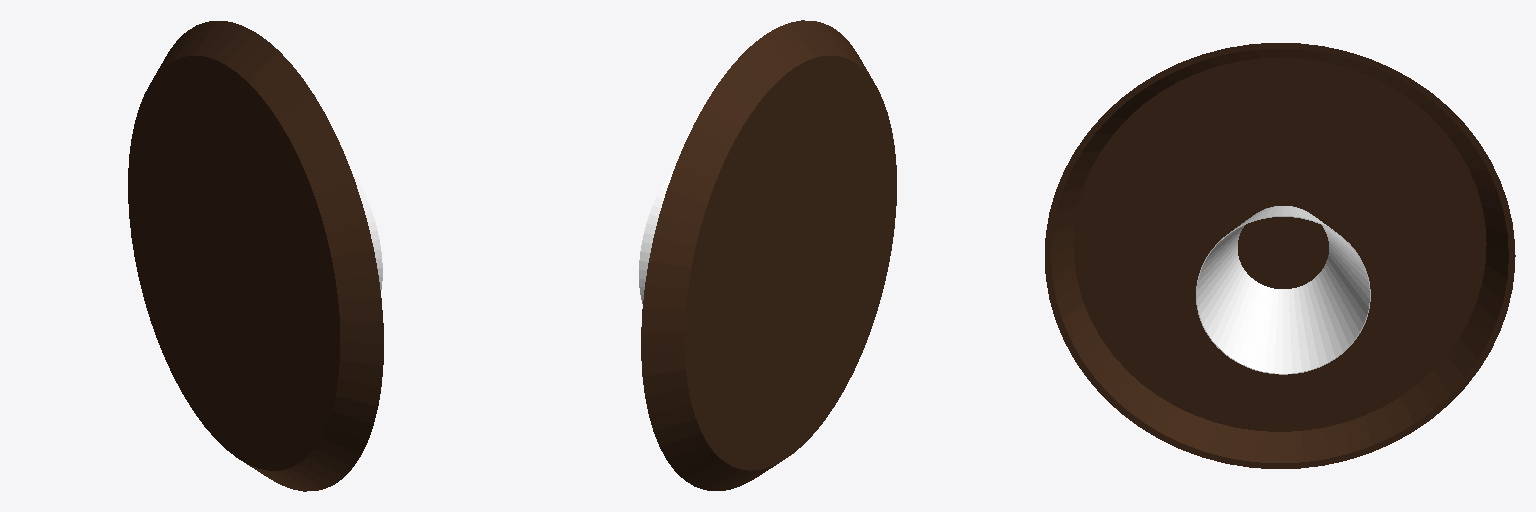
URDF robot description (gen3_robotiq_2f_85):
<?xml version="1.0" ?>
<!-- =================================================================================== -->
<!-- |    This document was autogenerated by xacro from gen3_robotiq_2f_85.xacro       | -->
<!-- |    EDITING THIS FILE BY HAND IS NOT RECOMMENDED                                 | -->
<!-- =================================================================================== -->
<robot name="gen3_robotiq_2f_85">
  <!-- Run the macros -->
  <link name="base">
    <inertial>
      <origin rpy="0 0 0" xyz="-0.000648 -0.000166 0.084487"/>
      <mass value="1.697"/>
      <inertia ixx="0.004622" ixy="9E-06" ixz="6E-05" iyy="0.004495" iyz="9E-06" izz="0.002079"/>
    </inertial>
    <visual>
      <origin rpy="0 0 0" xyz="0 0 0"/>
      <geometry>
        <mesh filename="meshes/base_link.obj"/>
      </geometry>
      <material name="">
        <color rgba="1 1 1 0"/>
      </material>
    </visual>
    <collision>
      <origin rpy="0 0 0" xyz="0 0 0"/>
      <geometry>
        <mesh filename="meshes/base_link.obj"/>
      </geometry>
    </collision>
  </link>

  <link name="shoulder_link">
    <inertial>
      <origin rpy="0 0 0" xyz="-2.3E-05 -0.010364 -0.07336"/>
      <mass value="1.3773"/>
      <inertia ixx="0.00457" ixy="1E-06" ixz="2E-06" iyy="0.004831" iyz="0.000448" izz="0.001409"/>
    </inertial>
    <visual>
      <origin rpy="0 0 0" xyz="0 0 0"/>
      <geometry>
        <mesh filename="meshes/shoulder_link.obj"/>
      </geometry>
      <material name="">
        <color rgba="1 1 1 0"/>
      </material>
    </visual>
    <collision>
      <origin rpy="0 0 0" xyz="0 0 0"/>
      <geometry>
        <mesh filename="meshes/shoulder_link.obj"/>
      </geometry>
    </collision>
  </link>

  <joint name="joint_1" type="continuous">
    <origin rpy="3.1416 2.7629E-18 -4.9305E-36" xyz="0 0 0.15643"/>
    <parent link="base"/>
    <child link="shoulder_link"/>
    <axis xyz="0 0 1"/>
    <limit effort="39" velocity="1.3963"/>
  </joint>

  <link name="half_arm_1_link">
    <inertial>
      <origin rpy="0 0 0" xyz="-4.4E-05 -0.09958 -0.013278"/>
      <mass value="1.1636"/>
      <inertia ixx="0.011088" ixy="5E-06" ixz="0" iyy="0.001072" iyz="-0.000691" izz="0.011255"/>
    </inertial>
    <visual>
      <origin rpy="0 0 0" xyz="0 0 0"/>
      <geometry>
        <mesh filename="meshes/half_arm_1_link.obj"/>
      </geometry>
      <material name="">
        <color rgba="1 1 1 0"/>
      </material>
    </visual>
    <collision>
      <origin rpy="0 0 0" xyz="0 0 0"/>
      <geometry>
        <mesh filename="meshes/half_arm_1_link.obj"/>
      </geometry>
    </collision>
  </link>

  <joint name="joint_2" type="revolute">
    <origin rpy="1.5708 2.1343E-17 -1.1102E-16" xyz="0 0.005375 -0.12838"/>
    <parent link="shoulder_link"/>
    <child link="half_arm_1_link"/>
    <axis xyz="0 0 1"/>
    <limit effort="39" lower="-2.41" upper="2.41" velocity="1.3963"/>
  </joint>

  <link name="half_arm_2_link">
    <inertial>
      <origin rpy="0 0 0" xyz="-4.4E-05 -0.006641 -0.117892"/>
      <mass value="1.1636"/>
      <inertia ixx="0.010932" ixy="0" ixz="-7E-06" iyy="0.011127" iyz="0.000606" izz="0.001043"/>
    </inertial>
    <visual>
      <origin rpy="0 0 0" xyz="0 0 0"/>
      <geometry>
        <mesh filename="meshes/half_arm_2_link.obj"/>
      </geometry>
      <material name="">
        <color rgba="1 1 1 0"/>
      </material>
    </visual>
    <collision>
      <origin rpy="0 0 0" xyz="0 0 0"/>
      <geometry>
        <mesh filename="meshes/half_arm_2_link.obj"/>
      </geometry>
    </collision>
  </link>

  <joint name="joint_3" type="continuous">
    <origin rpy="-1.5708 1.2326E-32 -2.9122E-16" xyz="0 -0.21038 -0.006375"/>
    <parent link="half_arm_1_link"/>
    <child link="half_arm_2_link"/>
    <axis xyz="0 0 1"/>
    <limit effort="39" velocity="1.3963"/>
  </joint>

  <link name="forearm_link">
    <inertial>
      <origin rpy="0 0 0" xyz="-1.8E-05 -0.075478 -0.015006"/>
      <mass value="0.9302"/>
      <inertia ixx="0.008147" ixy="-1E-06" ixz="0" iyy="0.000631" iyz="-0.0005" izz="0.008316"/>
    </inertial>
    <visual>
      <origin rpy="0 0 0" xyz="0 0 0"/>
      <geometry>
        <mesh filename="meshes/forearm_link.obj"/>
      </geometry>
      <material name="">
        <color rgba="1 1 1 0"/>
      </material>
    </visual>
    <collision>
      <origin rpy="0 0 0" xyz="0 0 0"/>
      <geometry>
        <mesh filename="meshes/forearm_link.obj"/>
      </geometry>
    </collision>
  </link>

  <joint name="joint_4" type="revolute">
    <origin rpy="1.5708 -6.6954E-17 -1.6653E-16" xyz="0 0.006375 -0.21038"/>
    <parent link="half_arm_2_link"/>
    <child link="forearm_link"/>
    <axis xyz="0 0 1"/>
    <limit effort="39" lower="-2.66" upper="2.66" velocity="1.3963"/>
  </joint>

  <link name="spherical_wrist_1_link">
    <inertial>
      <origin rpy="0 0 0" xyz="1E-06 -0.009432 -0.063883"/>
      <mass value="0.6781"/>
      <inertia ixx="0.001596" ixy="0" ixz="0" iyy="0.001607" iyz="0.000256" izz="0.000399"/>
    </inertial>
    <visual>
      <origin rpy="0 0 0" xyz="0 0 0"/>
      <geometry>
        <mesh filename="meshes/spherical_wrist_1_link.obj"/>
      </geometry>
      <material name="">
        <color rgba="1 1 1 0"/>
      </material>
    </visual>
    <collision>
      <origin rpy="0 0 0" xyz="0 0 0"/>
      <geometry>
        <mesh filename="meshes/spherical_wrist_1_link.obj"/>
      </geometry>
    </collision>
  </link>

  <joint name="joint_5" type="continuous">
    <origin rpy="-1.5708 2.2204E-16 -6.373E-17" xyz="0 -0.20843 -0.006375"/>
    <parent link="forearm_link"/>
    <child link="spherical_wrist_1_link"/>
    <axis xyz="0 0 1"/>
    <limit effort="9" velocity="1.2218"/>
  </joint>

  <link name="spherical_wrist_2_link">
    <inertial>
      <origin rpy="0 0 0" xyz="1E-06 -0.045483 -0.00965"/>
      <mass value="0.6781"/>
      <inertia ixx="0.001641" ixy="0" ixz="0" iyy="0.00041" iyz="-0.000278" izz="0.001641"/>
    </inertial>
    <visual>
      <origin rpy="0 0 0" xyz="0 0 0"/>
      <geometry>
        <mesh filename="meshes/spherical_wrist_2_link.obj"/>
      </geometry>
      <material name="">
        <color rgba="1 1 1 0"/>
      </material>
    </visual>
    <collision>
      <origin rpy="0 0 0" xyz="0 0 0"/>
      <geometry>
        <mesh filename="meshes/spherical_wrist_2_link.obj"/>
      </geometry>
    </collision>
  </link>

  <joint name="joint_6" type="revolute">
    <origin rpy="1.5708 9.2076E-28 -8.2157E-15" xyz="0 0.00017505 -0.10593"/>
    <parent link="spherical_wrist_1_link"/>
    <child link="spherical_wrist_2_link"/>
    <axis xyz="0 0 1"/>
    <limit effort="9" lower="-2.23" upper="2.23" velocity="1.2218"/>
  </joint>

  <link name="bracelet_link">
    <inertial>
      <!-- This is different from the documentation -->
      <origin rpy="0 0 0" xyz="0.000281 0.011402 -0.029798"/>
      <mass value="0.5"/>
      <inertia ixx="0.000587" ixy="3E-06" ixz="3E-06" iyy="0.000369" iyz="-0.000118" izz="0.000609"/>
    </inertial>
    <visual>
      <origin rpy="0 0 0" xyz="0 0 0"/>
      <geometry>
        <mesh filename="meshes/bracelet_with_vision_link.obj"/>
      </geometry>
      <material name="">
        <color rgba="1 1 1 0"/>
      </material>
    </visual>
    <collision>
      <origin rpy="0 0 0" xyz="0 0 0"/>
      <geometry>
        <mesh filename="meshes/bracelet_with_vision_link.obj"/>
      </geometry>
    </collision>
  </link>

  <joint name="joint_7" type="continuous">
    <origin rpy="-1.5708 -5.5511E-17 9.6396E-17" xyz="0 -0.10593 -0.00017505"/>
    <parent link="spherical_wrist_2_link"/>
    <child link="bracelet_link"/>
    <axis xyz="0 0 1"/>
    <limit effort="9" velocity="1.2218"/>
  </joint>

  <!-- gripper code -->


  <joint name="gripper_base_joint" type="fixed">
    <!--
    <parent link="end_effector_link"/>
  -->
    <parent link="bracelet_link"/>
    <child link="gripper_base"/>
    <origin rpy="1.5707 0.0 0.0" xyz="0.0 0.0 -0.0615250000000001"/>
    <!-- 1.57 -->
  </joint>

  <link name="gripper_base">
    <inertial>
      <origin rpy="0 0 0" xyz="6.91E-06 4.4117E-06 0.031656"/>
      <mass value="0.60831"/>
      <inertia ixx="0.0004596" ixy="1.5559E-09" ixz="1.397E-07" iyy="0.0005181" iyz="-1.0325E-11" izz="0.00036051"/>
    </inertial>
    <visual>
      <origin rpy="0 0 0" xyz="0 0 0"/>
      <geometry>
        <mesh filename="meshes/base_of_gripper.obj"/>
      </geometry>
      <material name="">
        <color rgba="0 0 0 0"/>
      </material>
    </visual>
    <collision>
      <origin rpy="0 0 0" xyz="0 0 0"/>
      <geometry>
        <mesh filename="meshes/base_of_gripper.obj"/>
      </geometry>
    </collision>
  </link>

  <!-- tray and object code -->

  <joint name="waiter_tray_joint" type="fixed">
     <origin rpy="0 1.5707 0" xyz="0 -0.14948 0" /> <!-- offset from base of gripper -->
     <parent link="gripper_base" />
     <child link="waiter_tray_link" />
  </joint>

  <link name="waiter_tray_link"> <!-- updated for circular tray -->
    <inertial>
      <origin rpy="0 0 0" xyz="0 -0.144 0" /> <!-- updated for hardware -->
      <mass value="0.354" /> <!-- updated for hardware -->
      <inertia ixx="0.00001806328" ixy="0" ixz="0" iyy="0.00001806328" iyz="0" izz="0.00003596782" /> <!-- updated for hardware -->
    </inertial>
    <visual>
      <origin rpy="0 0 0" xyz="0 0 0"/>
      <geometry>
        <mesh filename="meshes/circ_tray_hardware_shift_scale_v4.obj" /> <!-- need to be updated -->
      </geometry>
      <material name="">
      <color rgba="0.3059 0.2078 0.1412 1" />
      </material>
    </visual>
    <collision>
      <origin rpy="0 0 0" xyz="0 0 0"/>
      <geometry>
        <mesh filename="meshes/circ_tray_hardware_shift_scale_v4.obj" /> <!-- need to be updated -->
      </geometry>
    </collision>
  </link>

  <!-- Joint 10 -->
  <joint name="contact_joint" type="fixed">
     <origin rpy="0 0 0" xyz="0 -0.106 0.002" /> <!-- needs to be updated --> 
     <parent link="waiter_tray_link" />
     <child link="object_link" />
  </joint>

  <link name="object_link">
    <inertial>
      <origin rpy="0 0 0" xyz="0 0 0.0291" /> <!-- updated for hardware -->
      <mass value="0.592" /> <!-- updated for hardware -->
      <inertia ixx="0.00033005074" ixy="0.0" ixz="0.0" iyy="0.00033005074" iyz="0.0" izz="0.00042925501" /> <!-- updated for hardware -->
    </inertial>
    <visual>
      <origin rpy="0 0 0" xyz="0 0 0" />
      <geometry>
        <mesh filename="meshes/cup_hardware_shifted_scaled_rotated.obj" /> <!-- updated for hardware -->
          <!-- scale="0.001 0.001 0.001" -->
      </geometry>
      <material name="">
        <color rgba="1 1 1 0" />
      </material>
    </visual>
    <collision>
      <origin rpy="0 0 0" xyz="0 0 0" />
      <geometry>
        <mesh filename="meshes/cup_hardware_shifted_scaled_rotated.obj" /> <!-- updated for hardware -->
      </geometry>
    </collision>
  </link>


</robot>

--- Render facts (derived) ---
Views: 3 orthographic renders of the robot side by side, from view 1: azimuth 30°, elevation 25°; view 2: azimuth 150°, elevation 25°; view 3: azimuth 270°, elevation 25°.
Model gen3_robotiq_2f_85 with 11 links and 10 joints (3 revolute, 4 continuous, 3 fixed), rooted at base, posed all joints at 0.
Links seen in each view (by area): view 1: waiter_tray_link, object_link; view 2: waiter_tray_link, object_link; view 3: waiter_tray_link, object_link.
Link boxes in pixels (x1,y1,x2,y2): waiter_tray_link: (128, 21, 383, 491); object_link: (352, 173, 382, 289); waiter_tray_link: (641, 20, 896, 490); object_link: (639, 170, 673, 303); waiter_tray_link: (1045, 43, 1515, 468); object_link: (1196, 206, 1370, 374).
Size in the robot's own frame: 0.072 by 0.285 by 0.2849 metres.
Meshes: 11 distinct files referenced, 2 mesh visuals loaded (2 OBJ); not drawn: 9 (reference not matched to a file when rendering).